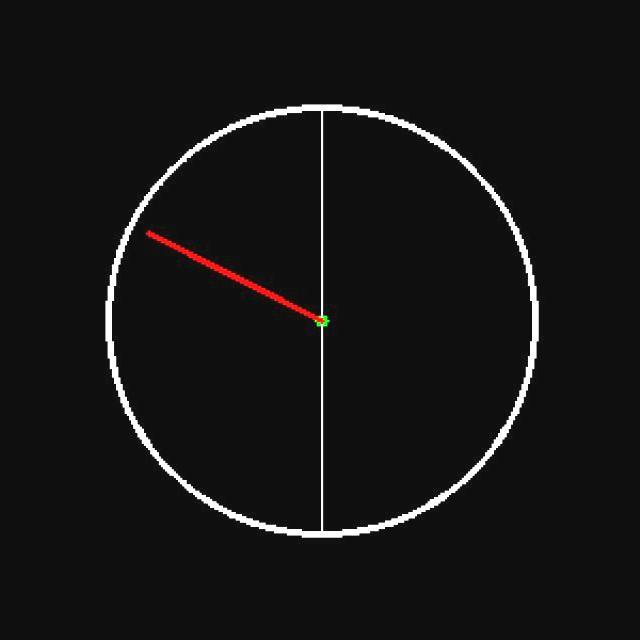Needle_Tip: (123, 223, 205, 262)
Needle_base: (294, 306, 348, 341)
